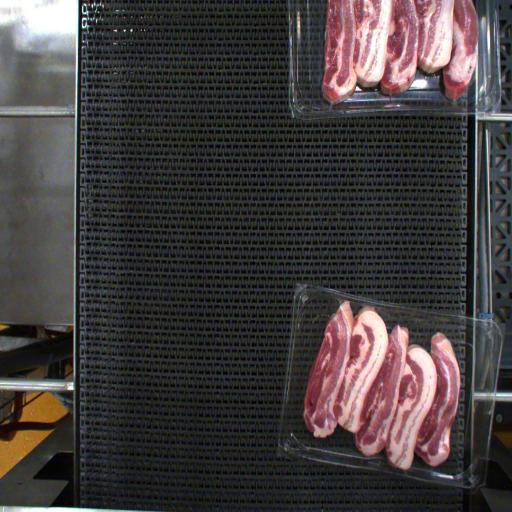packaging-error: (333, 288, 352, 318)
